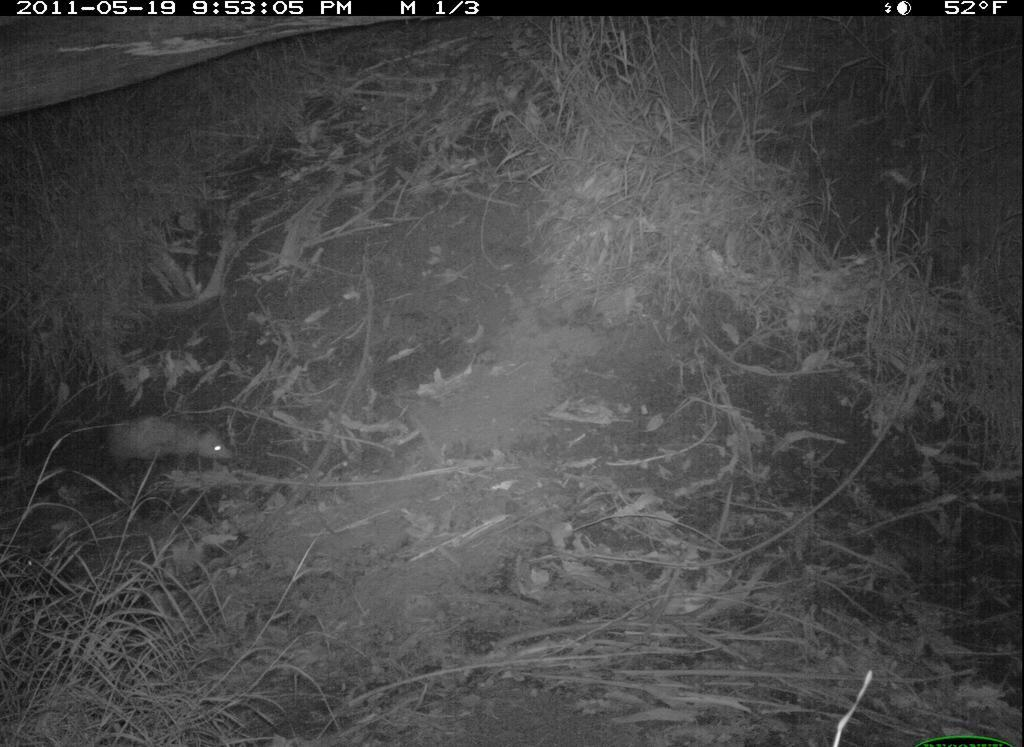opossum: (97, 406, 239, 474)
